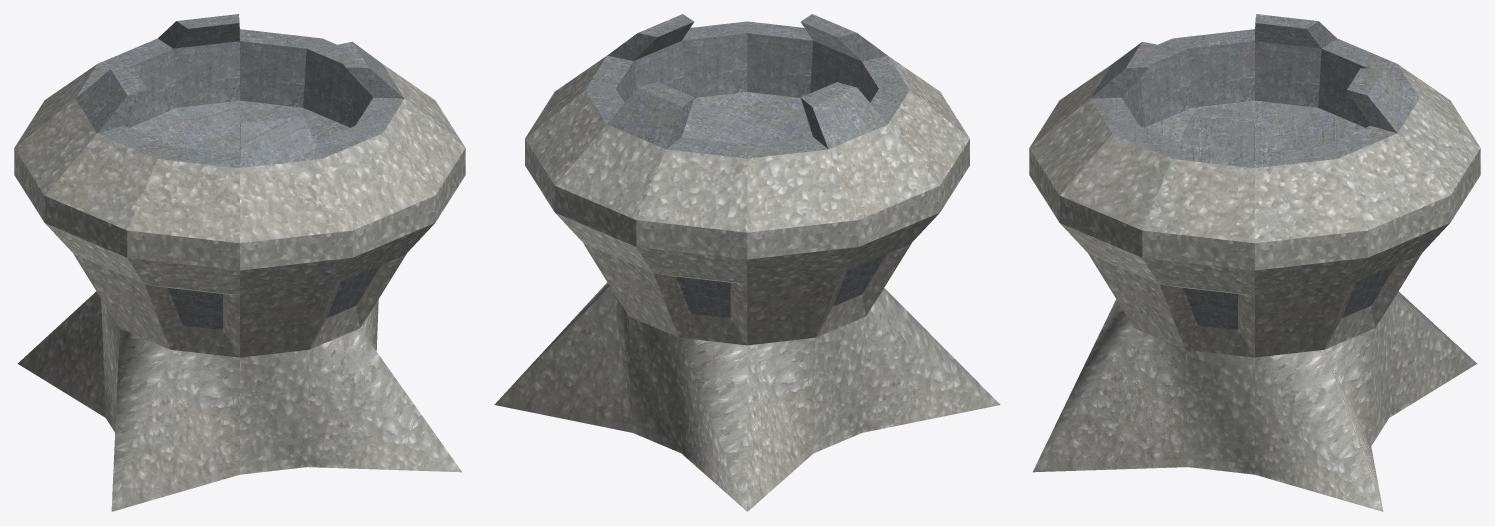
3 views of the same model, side by side, from view 1: azimuth 30°, elevation 25°; view 2: azimuth 150°, elevation 25°; view 3: azimuth 270°, elevation 25° (orthographic).
Parts seen in each view (by area): view 1: TexturesCom_MetalScratches0021_M, TexturesCom_ConcreteBare0398_7_seamless_S; view 2: TexturesCom_MetalScratches0021_M, TexturesCom_ConcreteBare0398_7_seamless_S; view 3: TexturesCom_MetalScratches0021_M, TexturesCom_ConcreteBare0398_7_seamless_S.
Boxes of the visible parts, x1,y1,x2,y2 form: TexturesCom_MetalScratches0021_M: [14, 64, 465, 511]; TexturesCom_ConcreteBare0398_7_seamless_S: [75, 14, 404, 329]; TexturesCom_MetalScratches0021_M: [494, 56, 1000, 511]; TexturesCom_ConcreteBare0398_7_seamless_S: [585, 14, 909, 318]; TexturesCom_MetalScratches0021_M: [1029, 64, 1480, 511]; TexturesCom_ConcreteBare0398_7_seamless_S: [1090, 14, 1419, 329].
Bounding box in the file's own units: 1.76 × 1.5 × 1.76.
2 materials, 2 textured.
